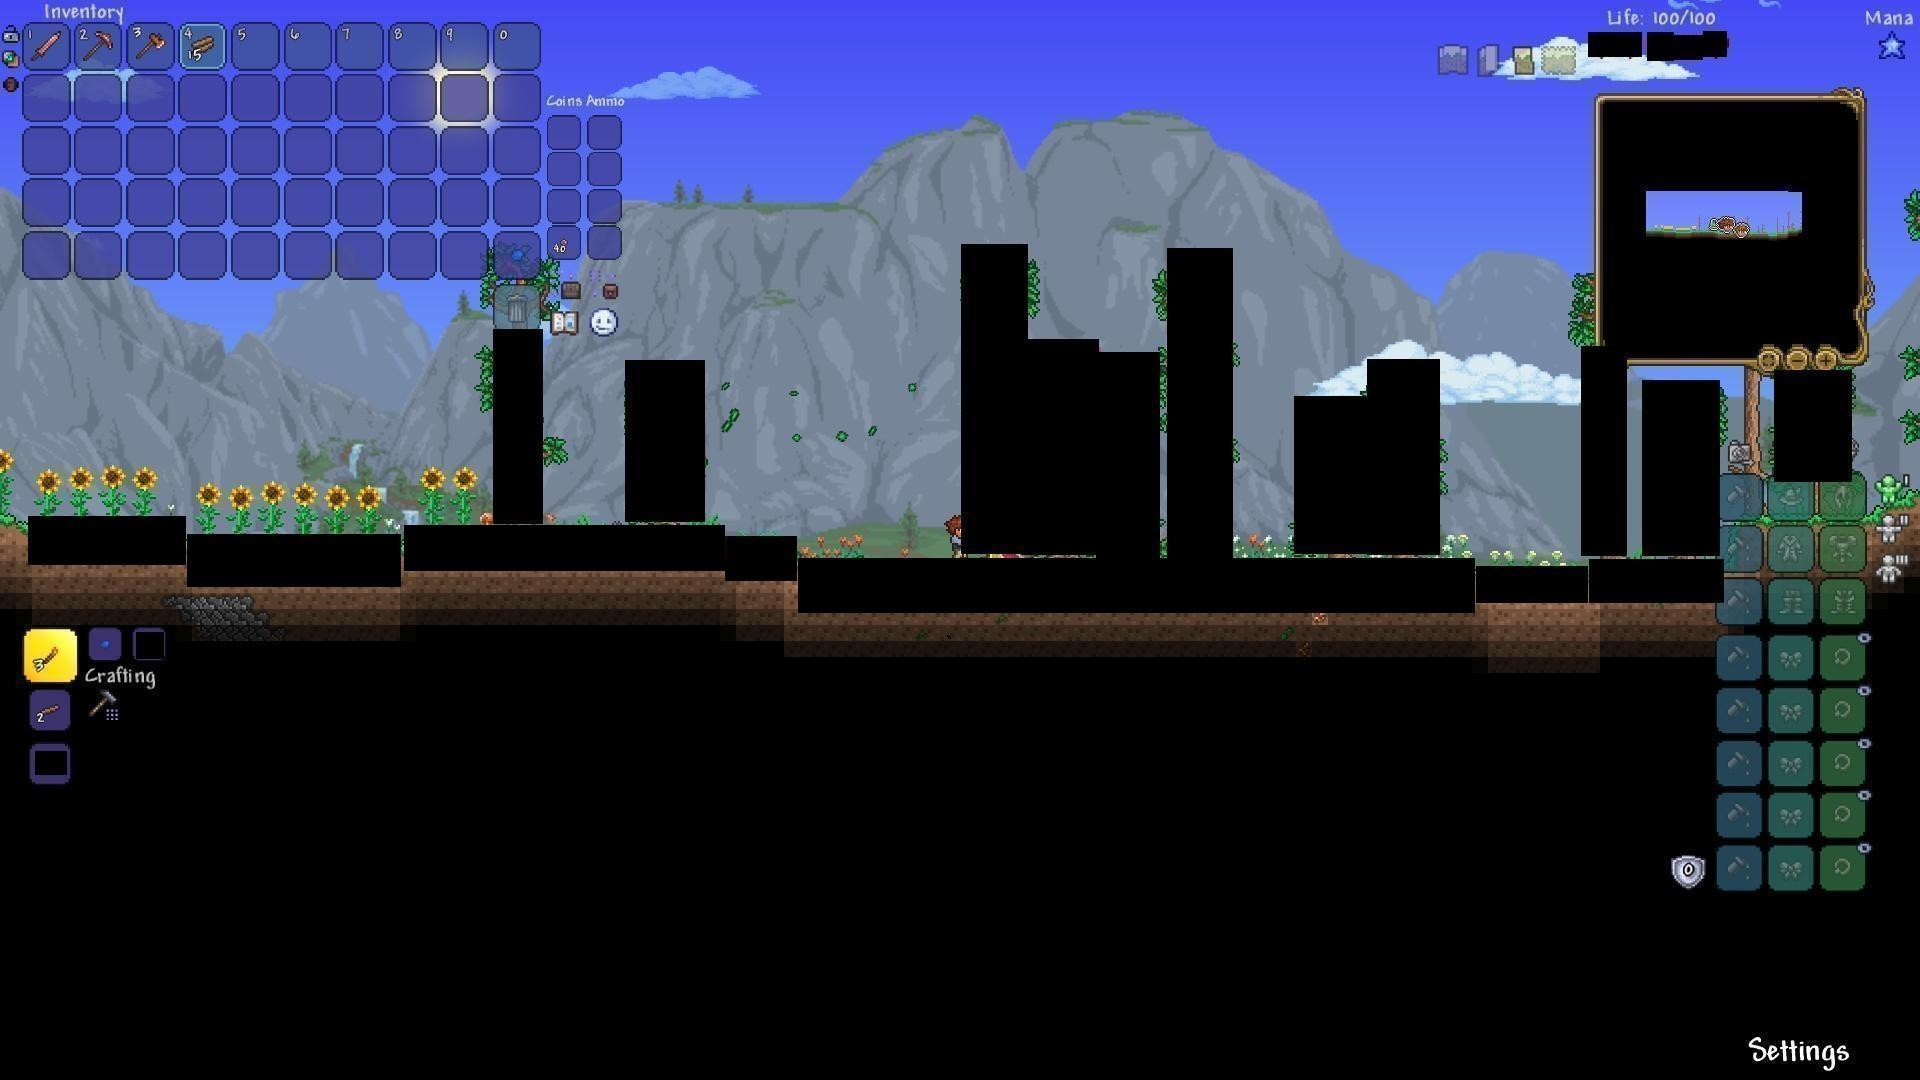dirt: (0, 506, 29, 549)
wood: (187, 32, 219, 62)
